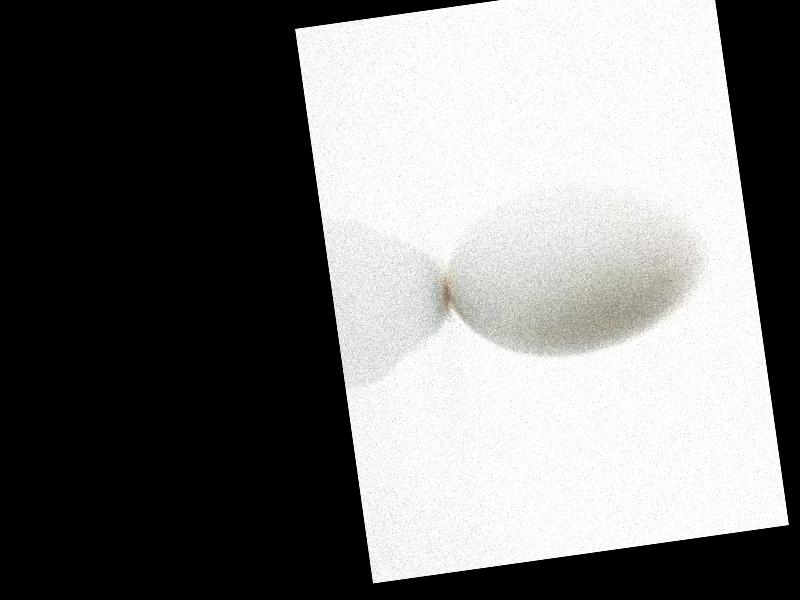Eggs: (435, 171, 720, 371)
